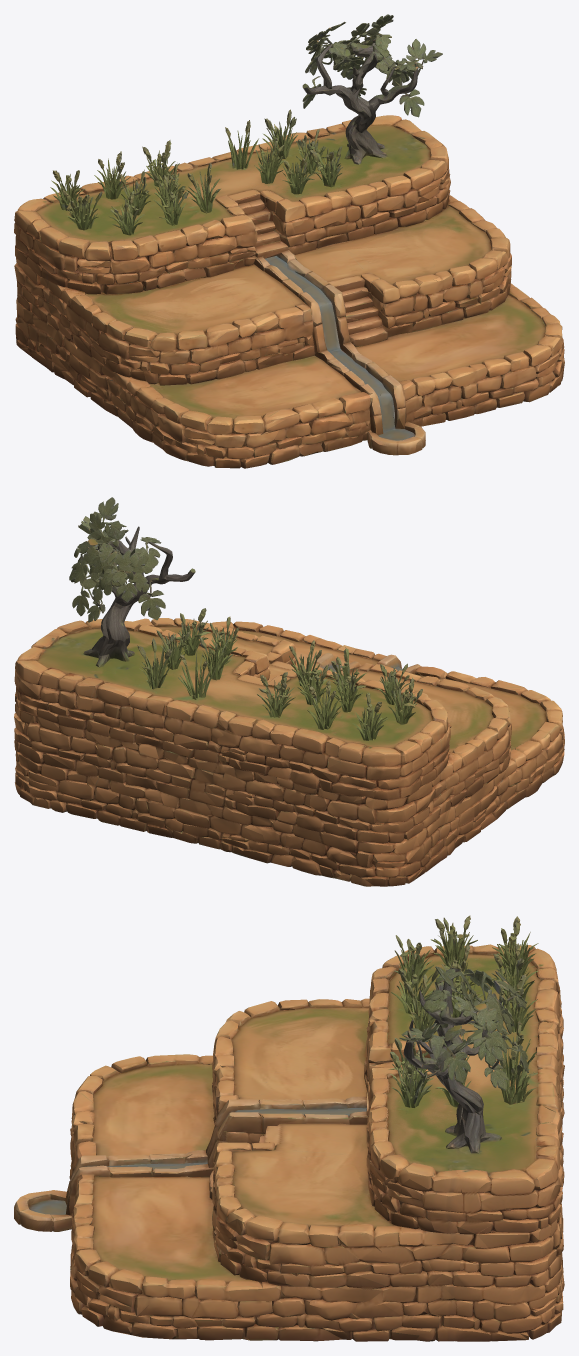
File: terraces-hero.glb
3 views of the same model, one above another, from view 1: azimuth 30°, elevation 25°; view 2: azimuth 150°, elevation 25°; view 3: azimuth 270°, elevation 25° (orthographic). The views are drawn at different scales.
Parts seen in each view (by area): view 1: mesh_node; view 2: mesh_node; view 3: mesh_node.
Boxes of the visible parts, x1,y1,x2,y2 form: mesh_node: (14, 14, 564, 468); mesh_node: (14, 497, 564, 886); mesh_node: (14, 915, 564, 1341).
Bounding box in the file's own units: 1.9 × 1.27 × 1.87.
Materials: 1 (1 with a texture image).
